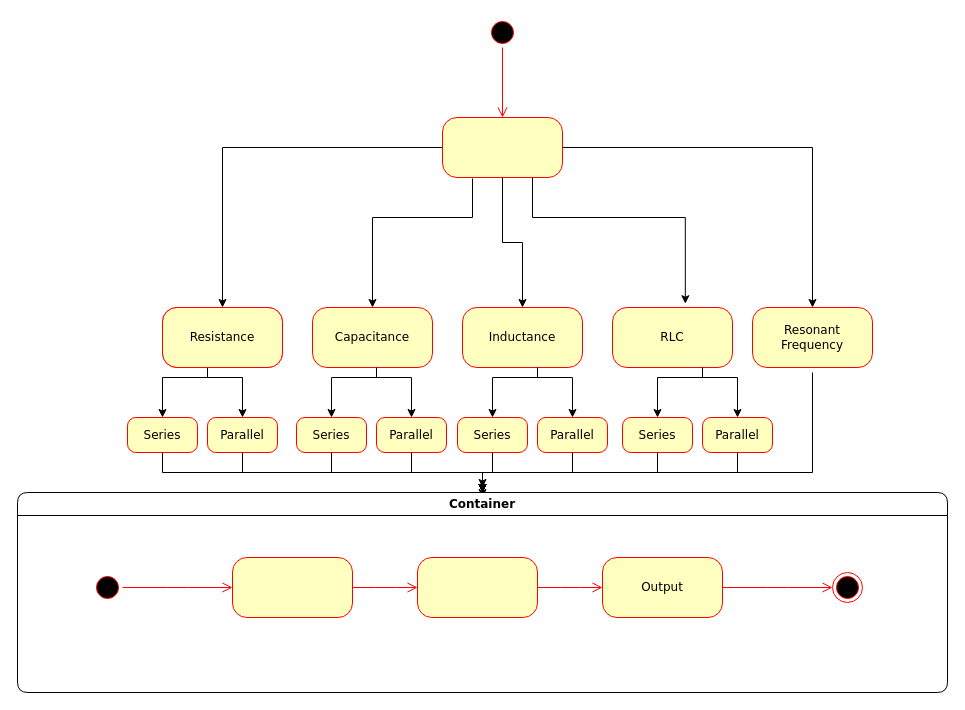
This 965x710 diagram has some shape labels left out. The centre of each missing label's shape, as x and y in pixels:
"Input" goes at point 292,587.
"MENU" goes at point 502,147.
"Process & Verification" goes at point 477,587.
